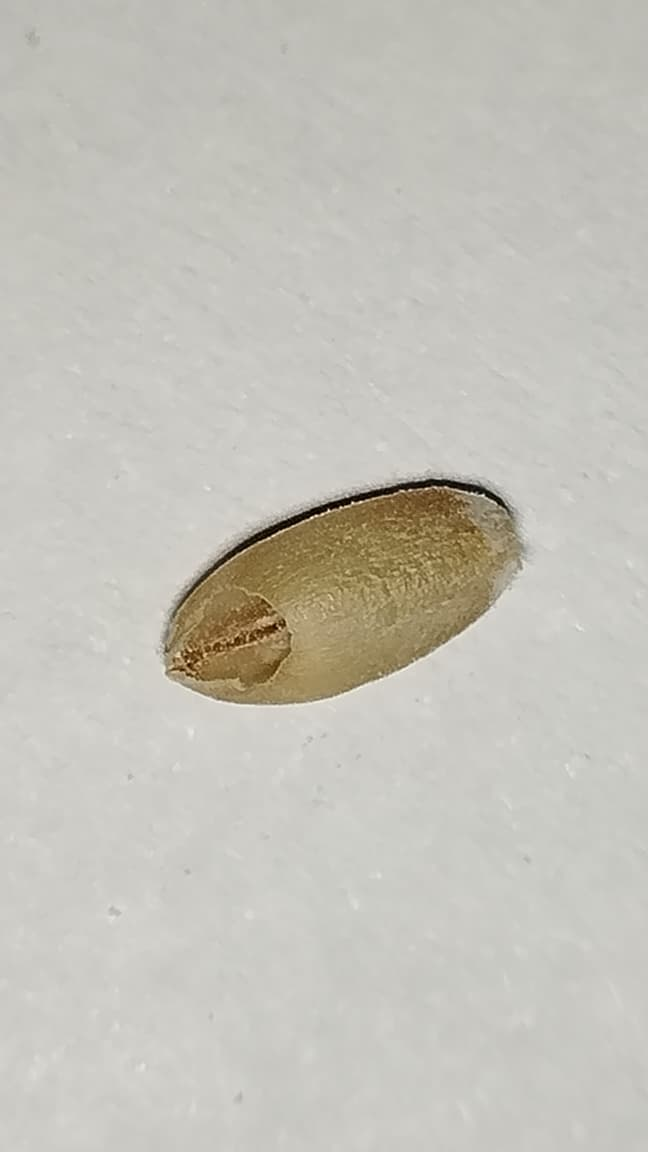damage: (165, 481, 523, 703)
insectdamage: (164, 576, 294, 687)
